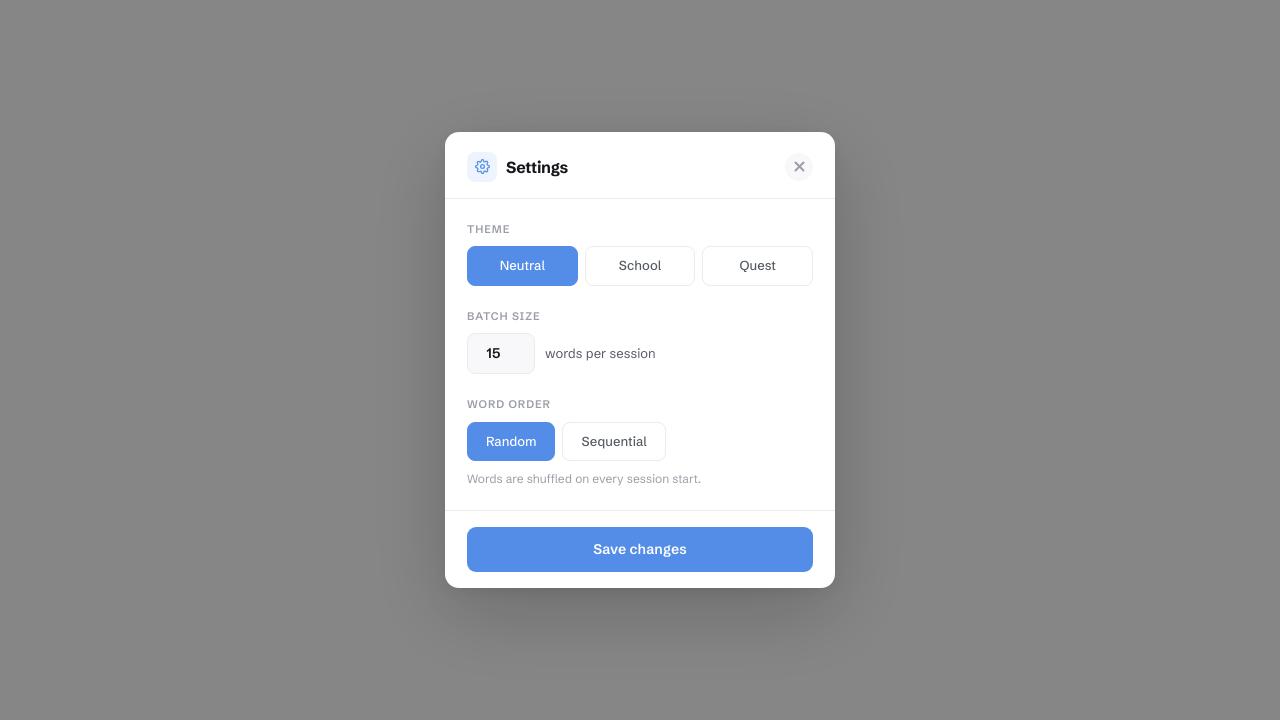
Test: SettingsModal — batch size input › allows typing an intermediate value without clamping
This screenshot has width=1280, height=720.
Replace the text in the number field with "1" at (501,354), box [467,333,535,374]
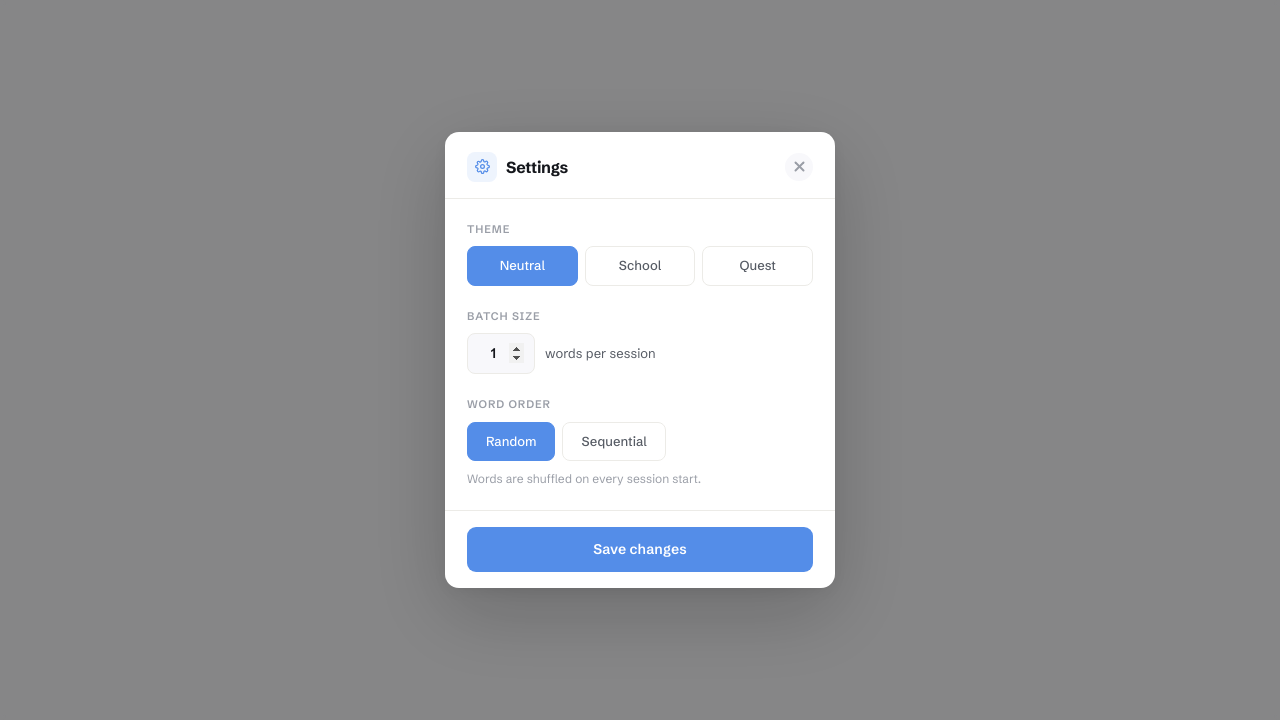
Type "0" into the number field at (501,354), box [467,333,535,374]
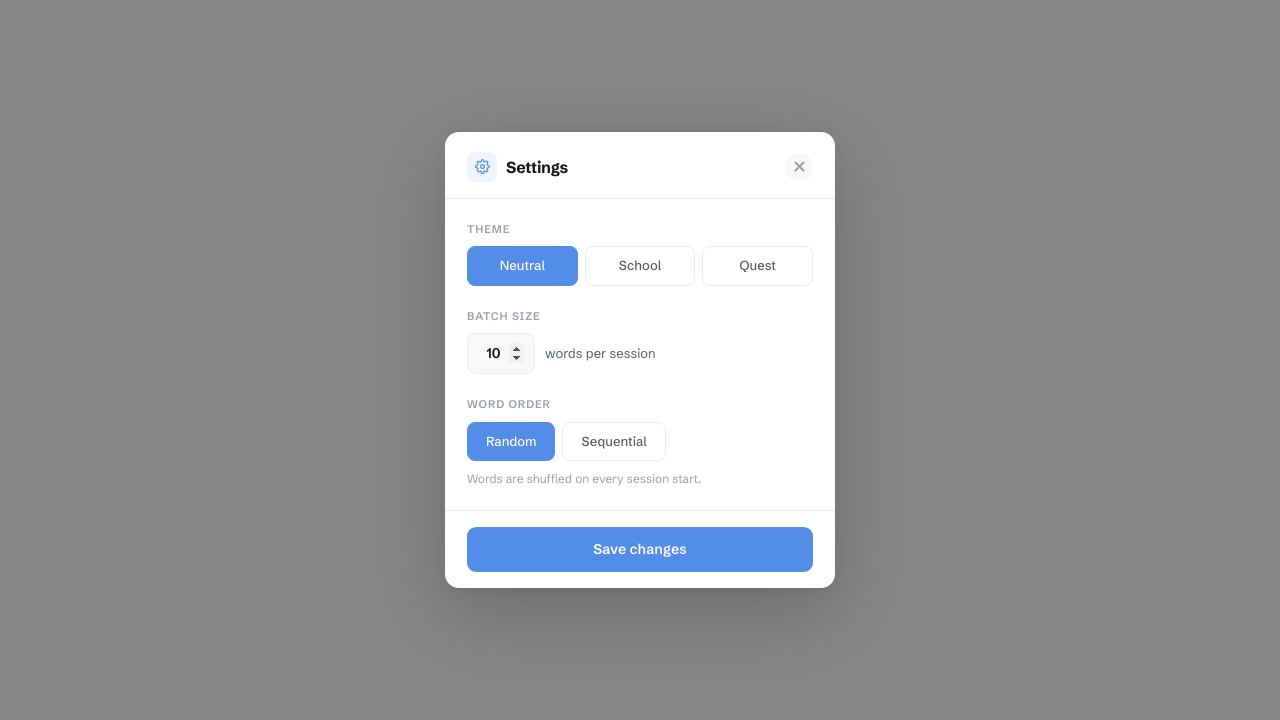
Result: the number field holds "10" at [467,333,535,374]
